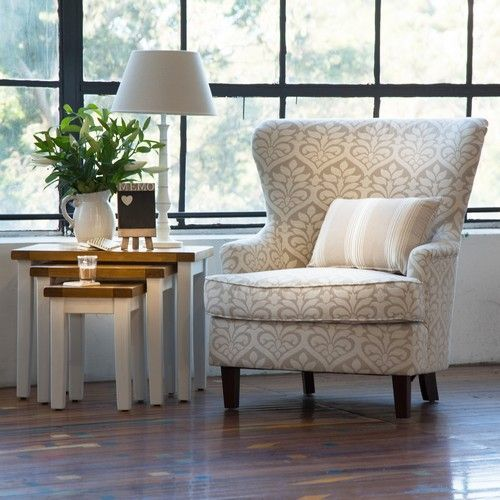chairs: (204, 117, 489, 419)
